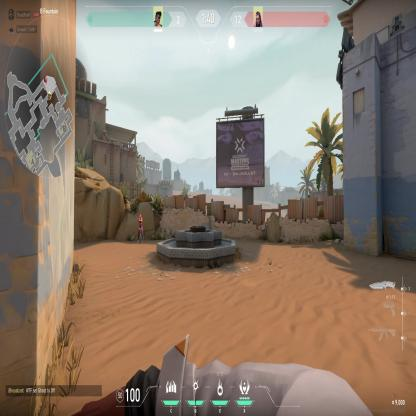enemy: (136, 212, 144, 244)
